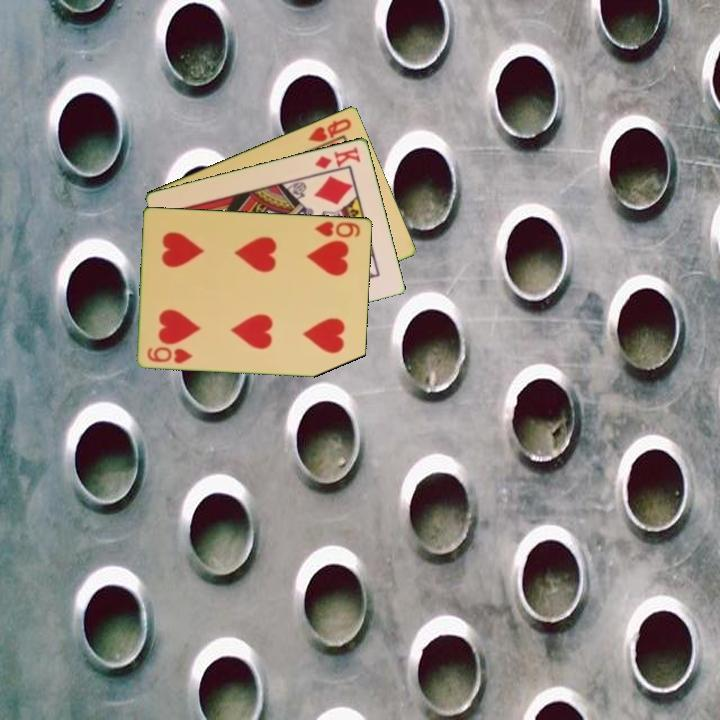6h: (312, 217, 363, 240), (144, 343, 195, 366)
Kd: (312, 142, 363, 172)
Qh: (304, 114, 355, 145)
